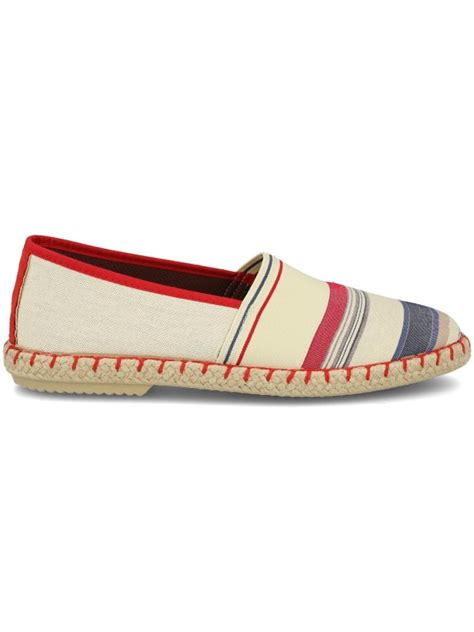nylon: (8, 233, 465, 370)
